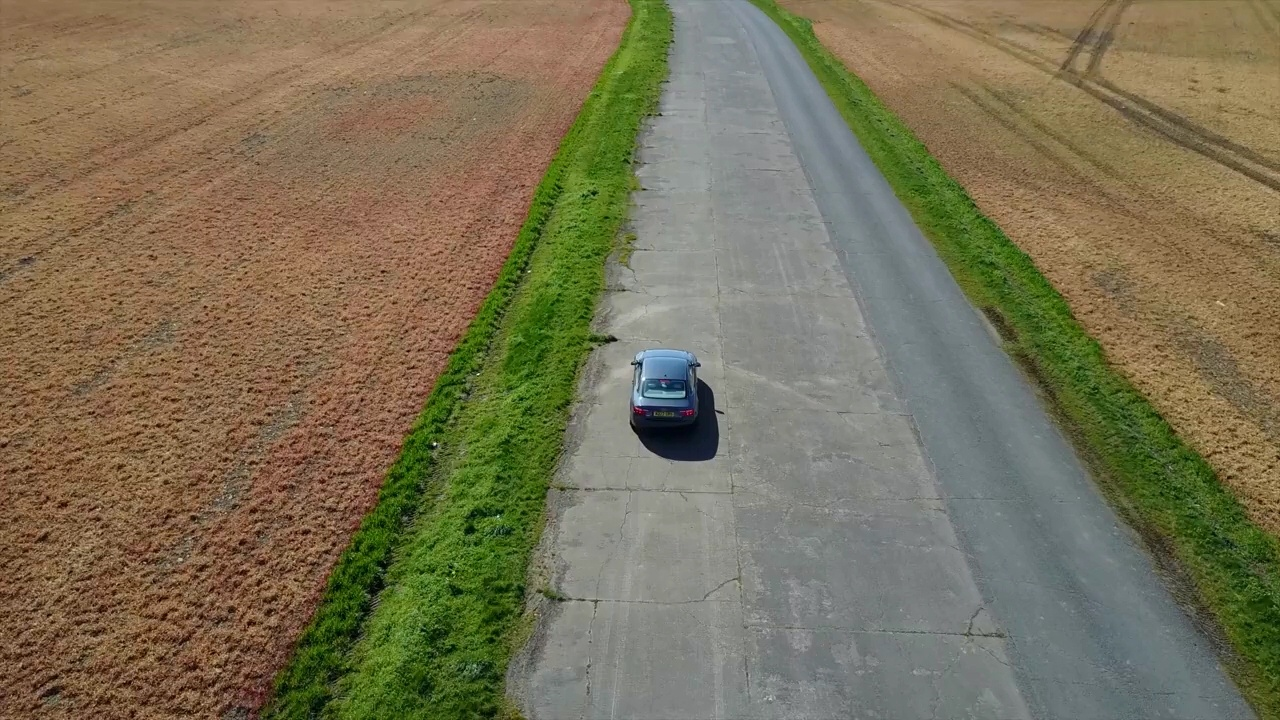araba: (625, 344, 704, 431)
